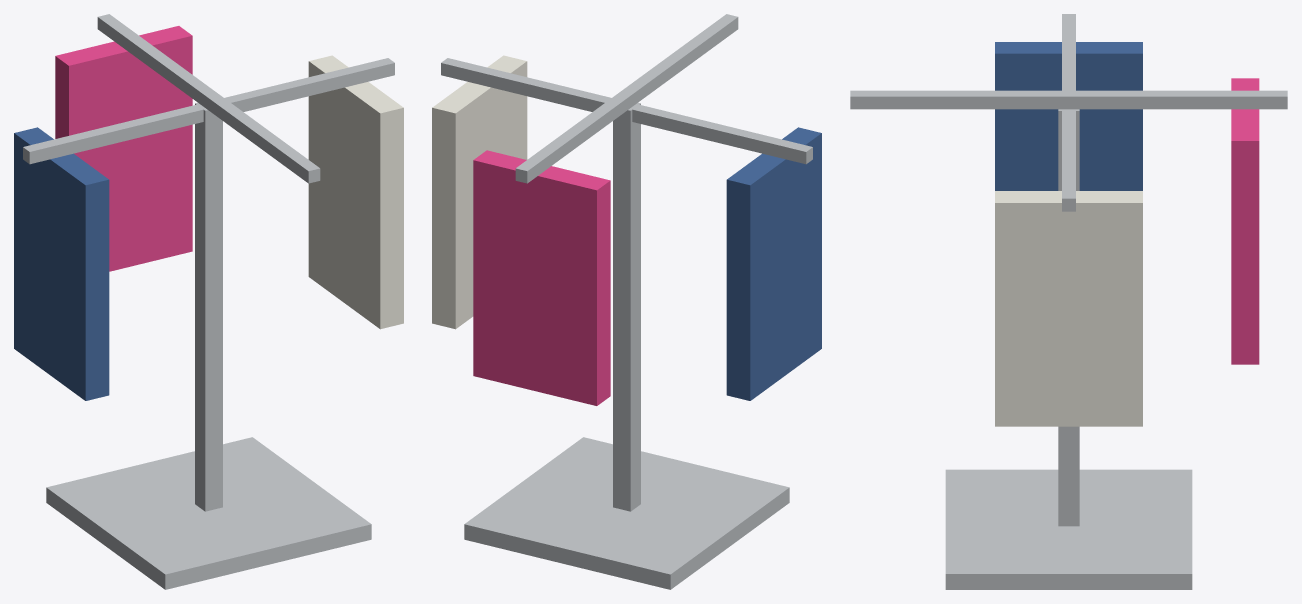
File: rack_3.glb
3 views of the same model, side by side, from view 1: azimuth 30°, elevation 25°; view 2: azimuth 150°, elevation 25°; view 3: azimuth 270°, elevation 25° (orthographic). The views are drawn at different scales.
Visible parts, largest first — view 1: Box1, Box5, Box7, Box6, Box2, Box3, Box4; view 2: Box7, Box1, Box5, Box6, Box2, Box3, Box4; view 3: Box6, Box1, Box5, Box4, Box7, Box2, Box3.
Part boxes in pixels (x1=…): Box1: x1=46, y1=437, x2=371, y2=589; Box5: x1=14, y1=127, x2=109, y2=400; Box7: x1=55, y1=26, x2=192, y2=271; Box6: x1=308, y1=55, x2=403, y2=329; Box2: x1=195, y1=102, x2=222, y2=511; Box3: x1=23, y1=58, x2=394, y2=164; Box4: x1=97, y1=14, x2=320, y2=183; Box7: x1=473, y1=150, x2=610, y2=405; Box1: x1=464, y1=437, x2=789, y2=589; Box5: x1=726, y1=127, x2=821, y2=400; Box6: x1=432, y1=55, x2=527, y2=329; Box2: x1=613, y1=102, x2=640, y2=511; Box3: x1=441, y1=58, x2=812, y2=164; Box4: x1=515, y1=14, x2=738, y2=183; Box6: x1=995, y1=191, x2=1142, y2=426; Box1: x1=945, y1=469, x2=1192, y2=589; Box5: x1=995, y1=42, x2=1142, y2=190; Box4: x1=850, y1=90, x2=1287, y2=109; Box7: x1=1231, y1=78, x2=1259, y2=364; Box2: x1=1058, y1=109, x2=1079, y2=526; Box3: x1=1062, y1=14, x2=1075, y2=211.
Bounding box in the file's own units: 1.24 × 1.39 × 1.24.
